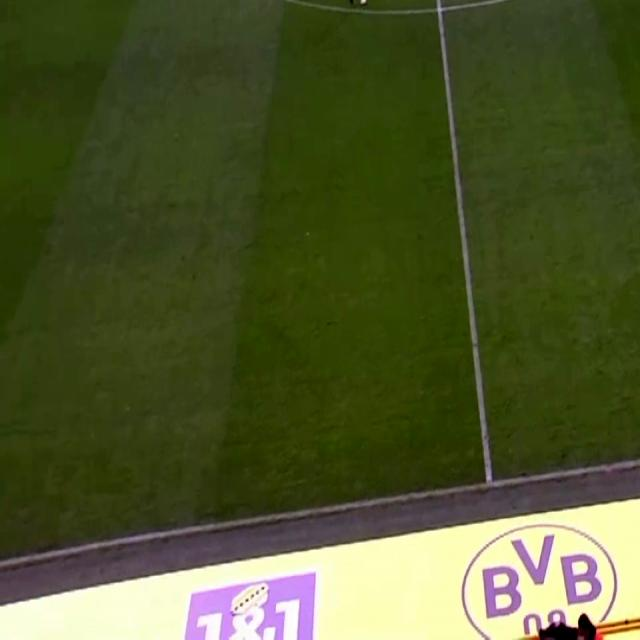soccer-player: (346, 0, 377, 7)
